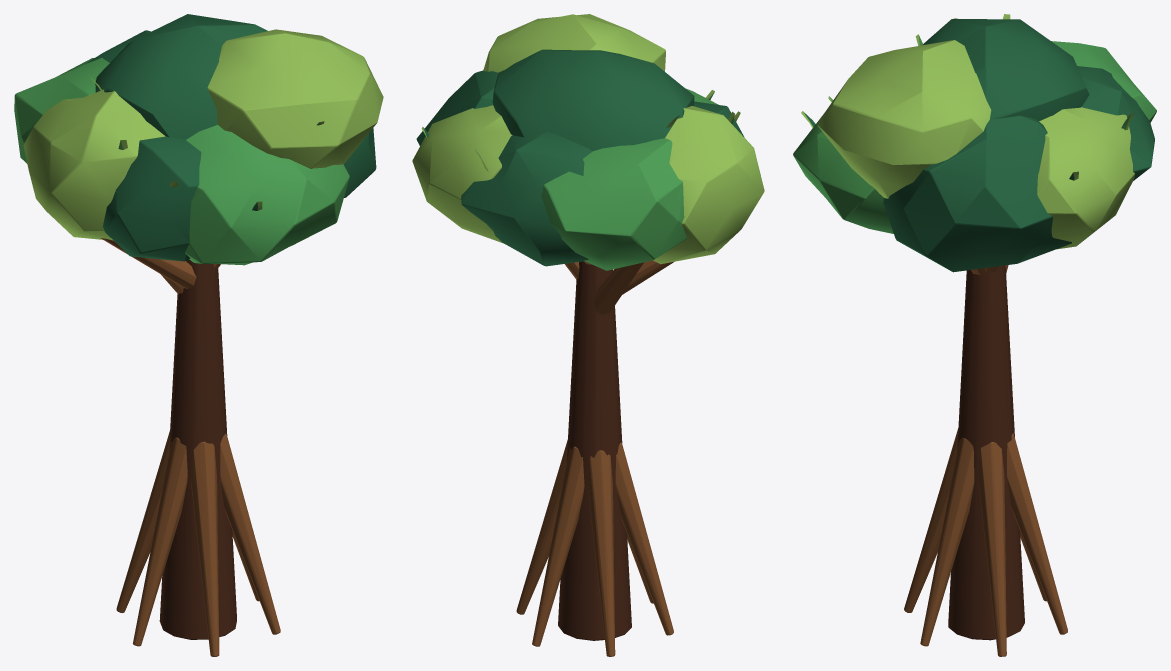
The model's file is tree_oak_lod1.glb.
3 renders of one model, left to right at view 1: azimuth 30°, elevation 25°; view 2: azimuth 150°, elevation 25°; view 3: azimuth 270°, elevation 25°, orthographic. The views are drawn at different scales.
Visible parts, largest first — view 1: Flared sculpted trunk.002; view 2: Flared sculpted trunk.002; view 3: Flared sculpted trunk.002.
Part boxes in pixels (<box>): Flared sculpted trunk.002: <box>14,14,383,656</box>; Flared sculpted trunk.002: <box>412,14,764,656</box>; Flared sculpted trunk.002: <box>793,14,1156,656</box>.
Size of the model in its own units: 3.52 by 6.1 by 3.35.
